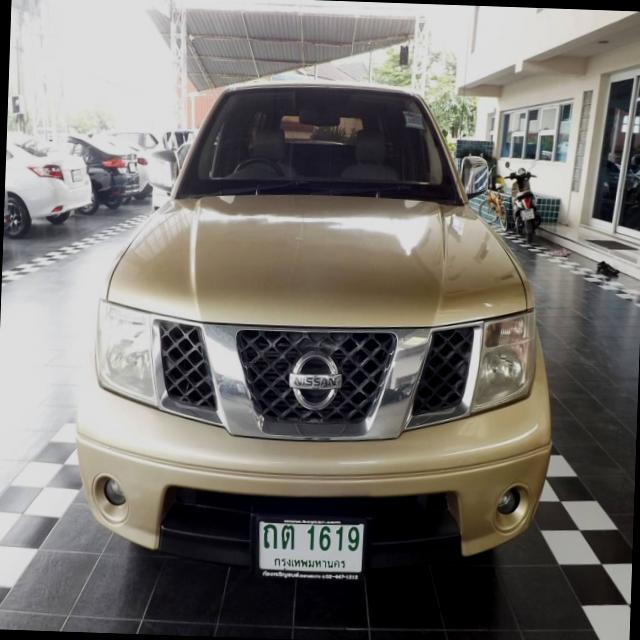license_plate: (246, 508, 368, 581), (70, 167, 85, 184), (126, 161, 136, 174)
